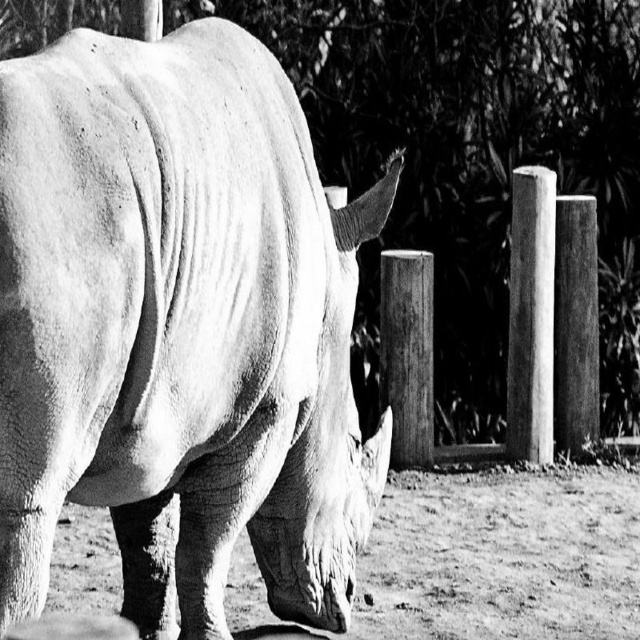Rhinoceros: (0, 7, 400, 639)
